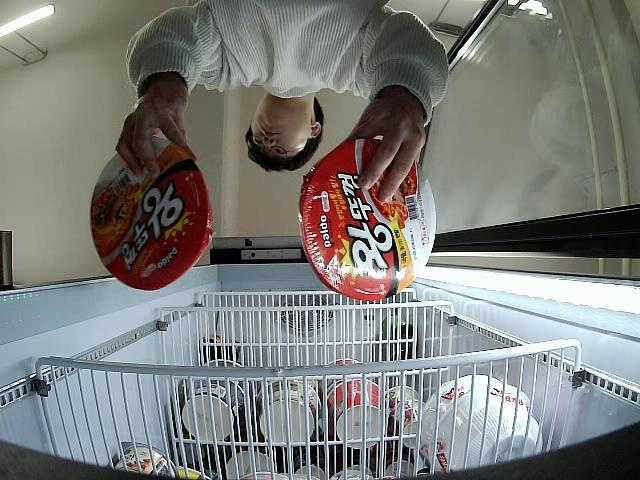00_hand: (351, 97, 431, 201), (116, 85, 197, 177)
10_wangTtukkeong: (300, 136, 435, 297), (91, 135, 217, 293)
